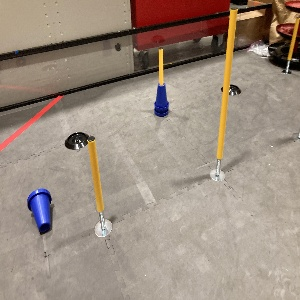Blue_2: (152, 82, 170, 114)
